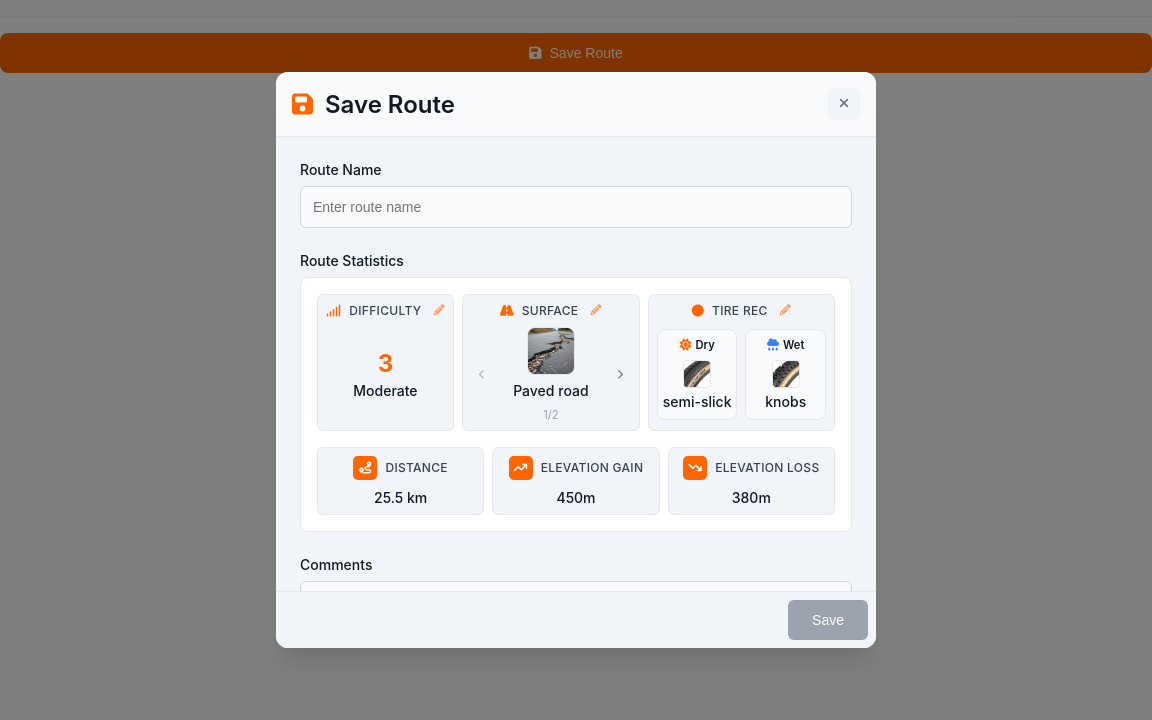
Test: RouteSaveModal › Save Route API Call › should show success message after successful save
This screenshot has width=1152, height=720.
In the field with id "route-name": (576, 207) [300, 186, 852, 228], type "Test Route"
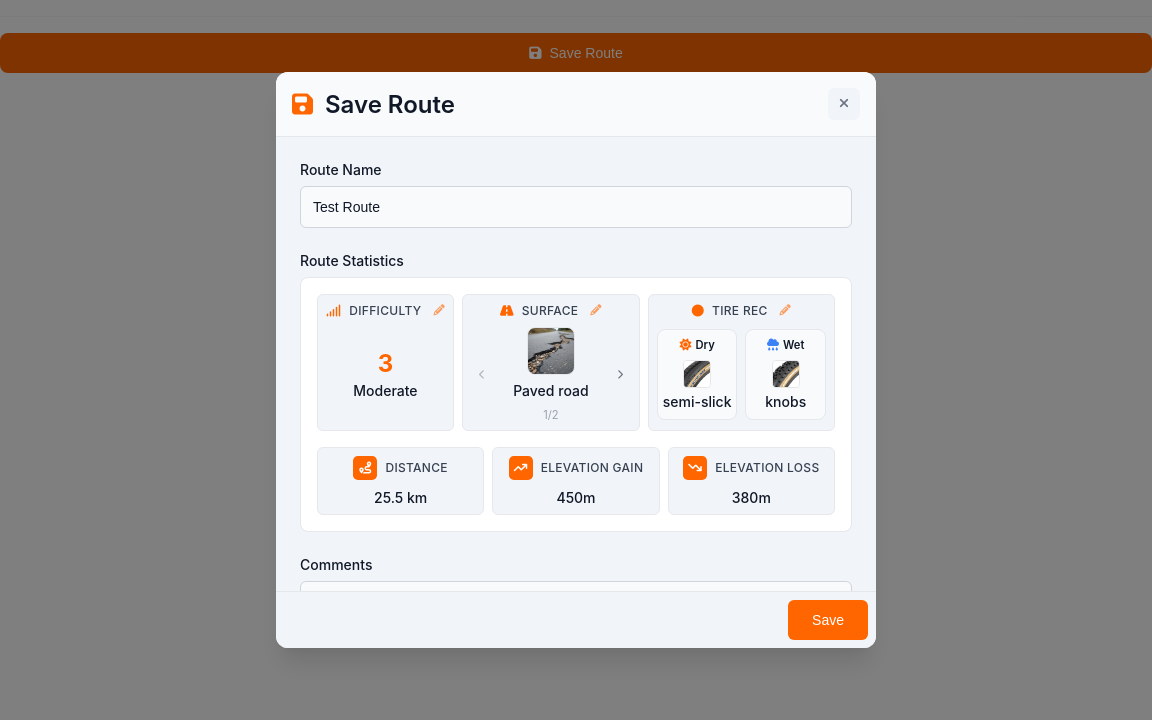
Click the button "Save": (828, 620) [788, 600, 868, 640]
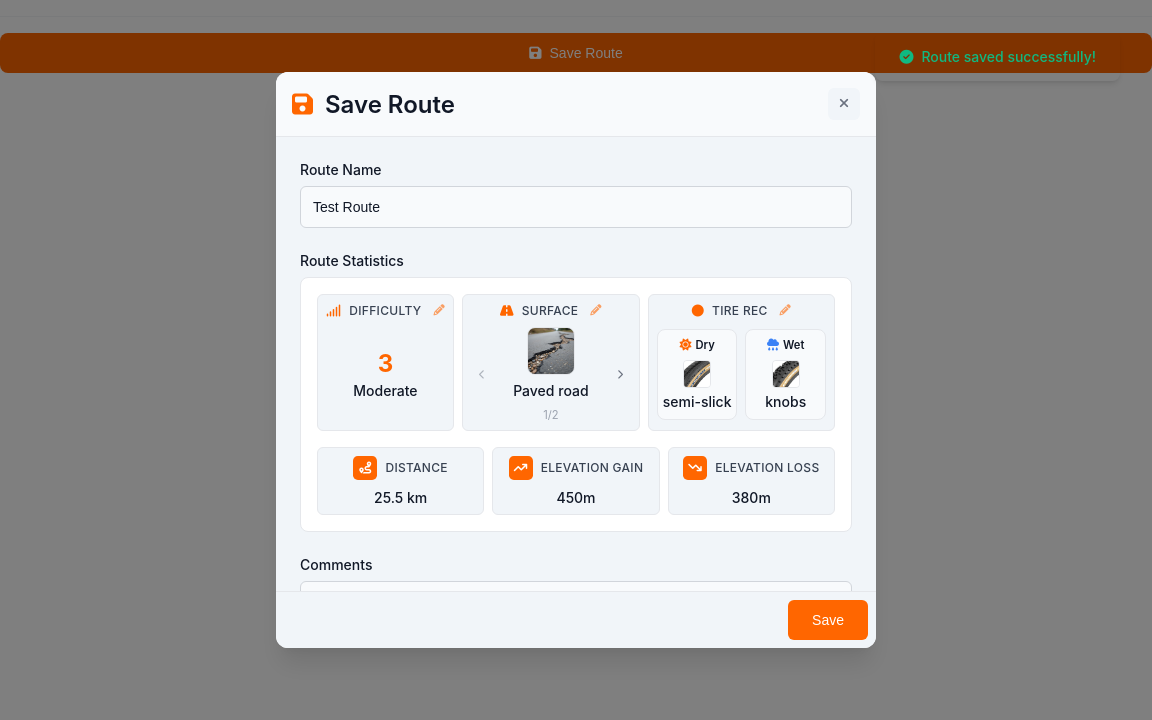
Expected: the element with class "save-success-message" is shown, [875, 32, 1120, 81]
